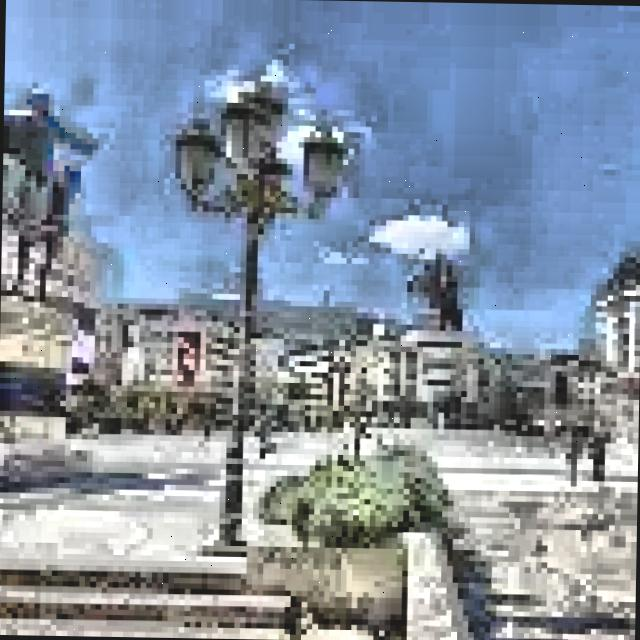alexander the great monument: (407, 254, 478, 420)
stone bridge: (383, 493, 637, 640)
